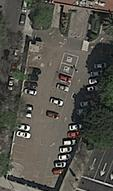parkingspot: (47, 62, 109, 178), (8, 52, 45, 176), (45, 53, 79, 121)
